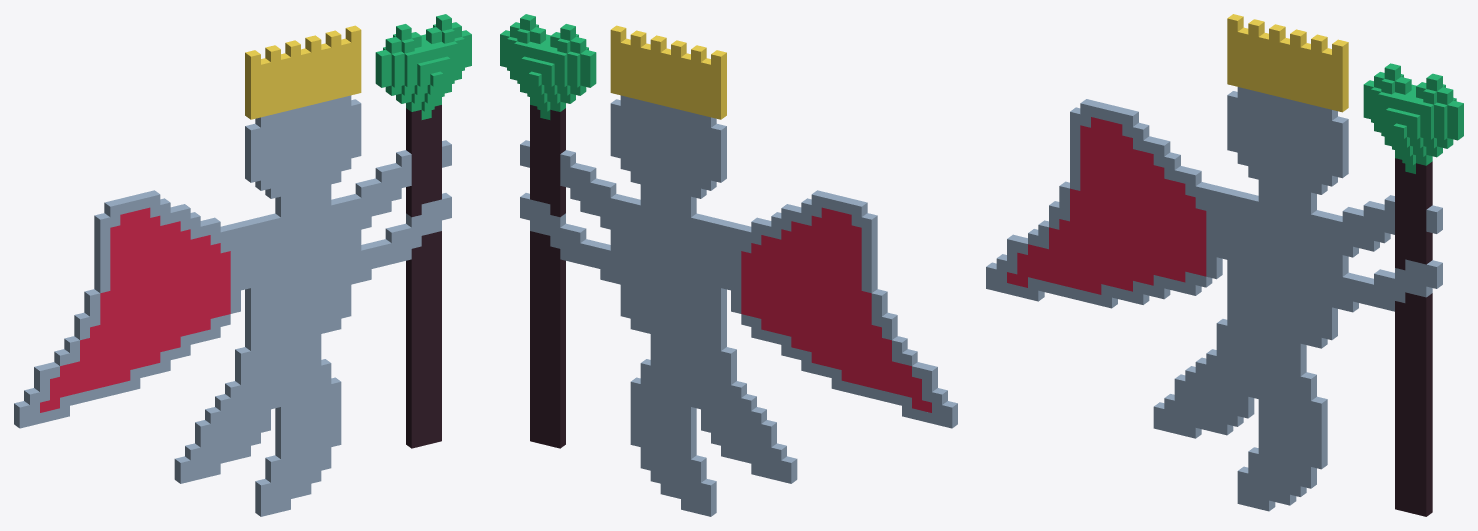
The model's file is LaserCupid_Upgraded.fbx.
3 views of the same model, side by side, from view 1: azimuth 30°, elevation 25°; view 2: azimuth 150°, elevation 25°; view 3: azimuth 330°, elevation 25° (orthographic). The views are drawn at different scales.
Visible parts, largest first — view 1: generated; view 2: generated; view 3: generated.
Part boxes in pixels (bbox=[...]): generated: bbox=[14, 14, 471, 516]; generated: bbox=[500, 14, 957, 516]; generated: bbox=[986, 14, 1463, 516].
Size of the model in its own units: 450 by 440 by 50.
